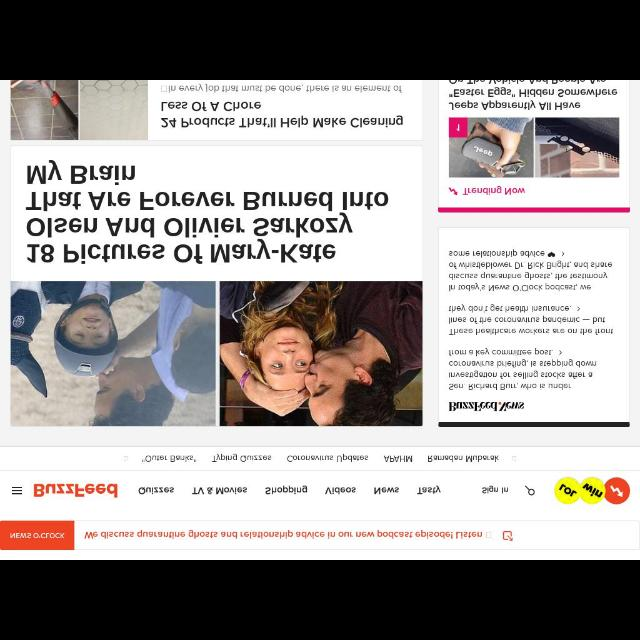icon: (503, 529, 513, 541), (12, 487, 22, 498), (524, 485, 534, 495), (448, 186, 458, 196), (560, 250, 566, 258), (576, 306, 582, 314), (559, 349, 563, 355)
image: (11, 284, 216, 426), (220, 282, 422, 424), (10, 81, 148, 139), (450, 116, 534, 178), (534, 118, 618, 178), (555, 477, 629, 503)
multitab: (1, 448, 639, 469)
text: (28, 166, 388, 264), (448, 248, 612, 292), (164, 99, 402, 129), (450, 350, 596, 390), (448, 304, 614, 336), (450, 81, 616, 111), (84, 530, 483, 540), (167, 86, 403, 92), (33, 484, 119, 496), (448, 400, 524, 412), (287, 452, 368, 462), (192, 484, 248, 496), (143, 452, 199, 462), (428, 454, 498, 462), (212, 453, 272, 462), (462, 186, 526, 194), (10, 531, 66, 539), (266, 484, 308, 494), (138, 486, 172, 494), (326, 486, 356, 494), (418, 485, 440, 495), (374, 486, 400, 494), (482, 486, 508, 494), (383, 456, 412, 462)
textbutton: (1, 520, 75, 550)
toolbar: (1, 470, 639, 520)
